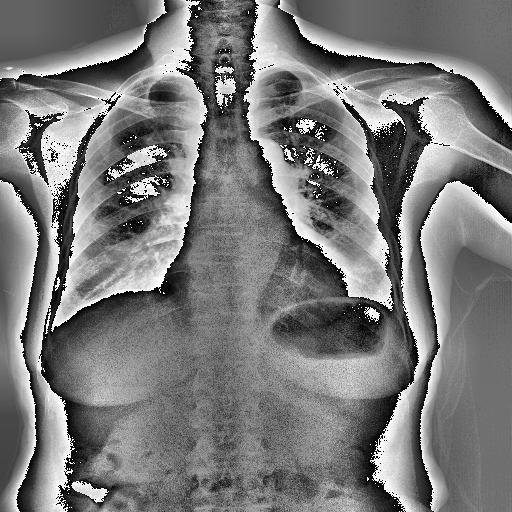0- Aortic enlargement: (235, 138, 286, 177)
10- Pleural effusion: (384, 298, 404, 332)
11- Pleural thickening: (384, 298, 404, 332), (134, 74, 182, 82)
2- Calcification: (268, 140, 276, 146)
3- Cardiomegaly: (158, 250, 362, 304), (164, 258, 358, 306), (158, 260, 363, 302)
